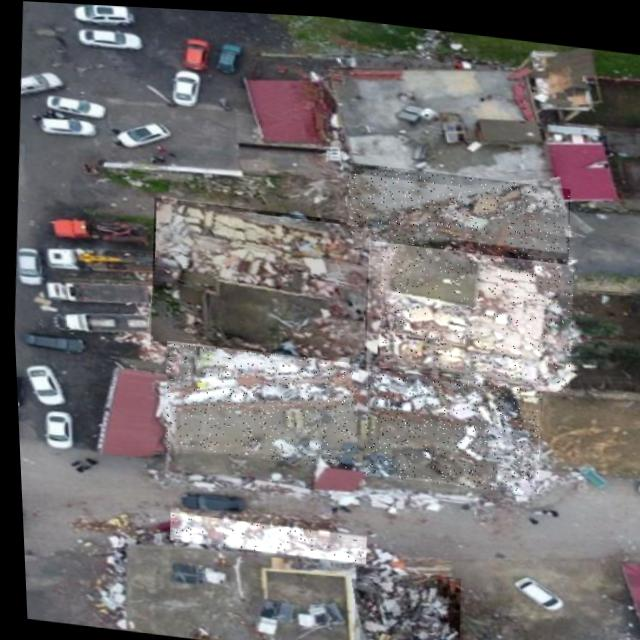Rubble: (141, 195, 372, 367), (369, 229, 575, 384), (155, 338, 358, 466), (355, 363, 540, 489), (340, 158, 570, 258), (163, 510, 361, 560), (342, 561, 456, 640)
